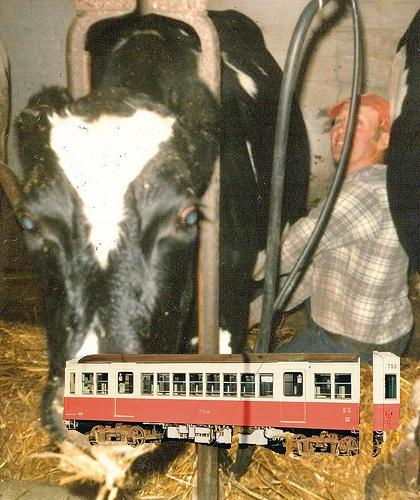tampered: (64, 352, 400, 457)
